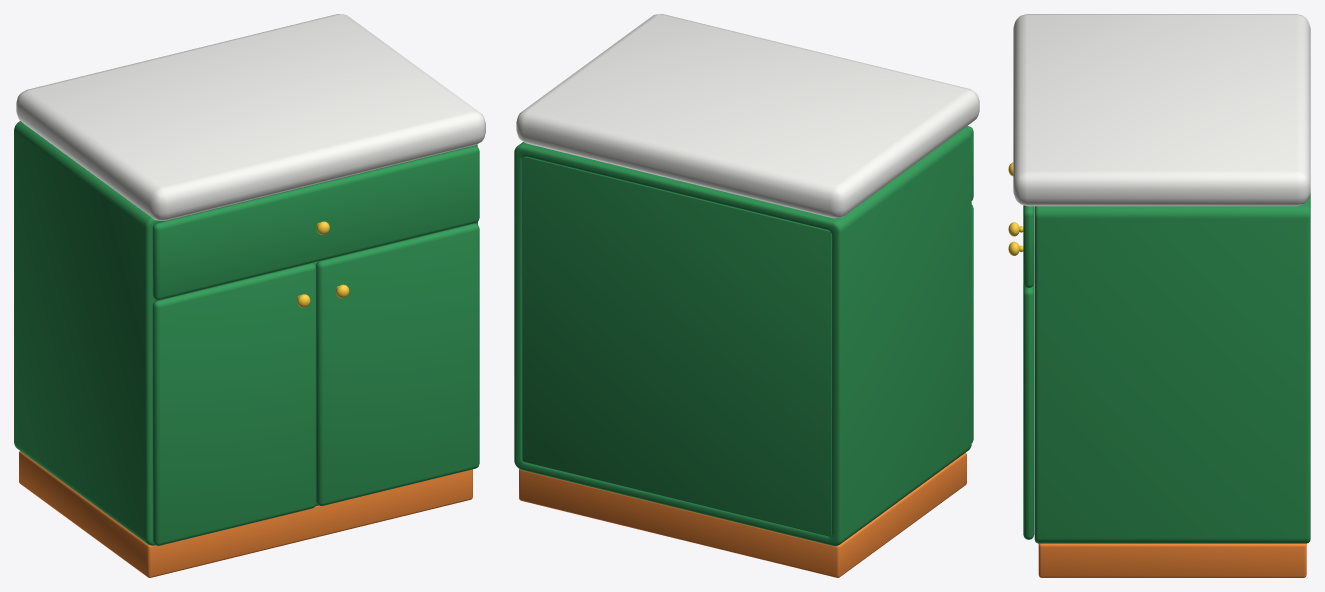
File: armario_cozinha_base_2portas_verde.glb
3 renders of one model, left to right at view 1: azimuth 30°, elevation 25°; view 2: azimuth 150°, elevation 25°; view 3: azimuth 270°, elevation 25°, orthographic. The views are drawn at different scales.
Parts seen in each view (by area): view 1: armario_cozinha_base_2portas_verde, porta_1, porta_2, gaveta_1; view 2: armario_cozinha_base_2portas_verde, porta_1; view 3: armario_cozinha_base_2portas_verde, porta_2, gaveta_1.
Part boxes in pixels (x1,y1,x2,y2): armario_cozinha_base_2portas_verde: [14, 14, 485, 577]; porta_1: [152, 263, 316, 545]; porta_2: [316, 223, 479, 505]; gaveta_1: [152, 146, 479, 299]; armario_cozinha_base_2portas_verde: [514, 14, 979, 577]; porta_1: [971, 204, 973, 442]; armario_cozinha_base_2portas_verde: [1013, 14, 1310, 577]; porta_2: [1008, 241, 1034, 539]; gaveta_1: [1008, 162, 1034, 287].
Bounding box in the file's own units: 0.798 × 0.9 × 0.609.
Materials: 1 (1 with a texture image).
